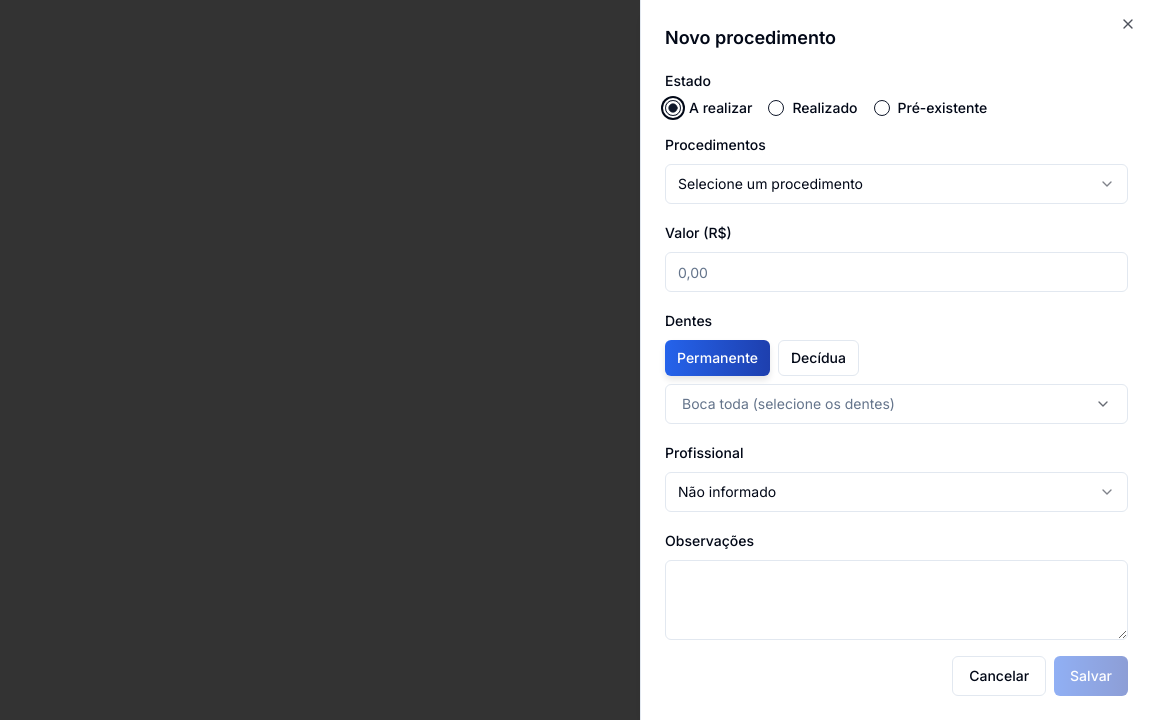
Test: ProcedureDrawer › decídua mostra os dentes 55 a 85
This screenshot has width=1152, height=720.
Click the button "Decídua" at (818,358), box [778,340,859,376]
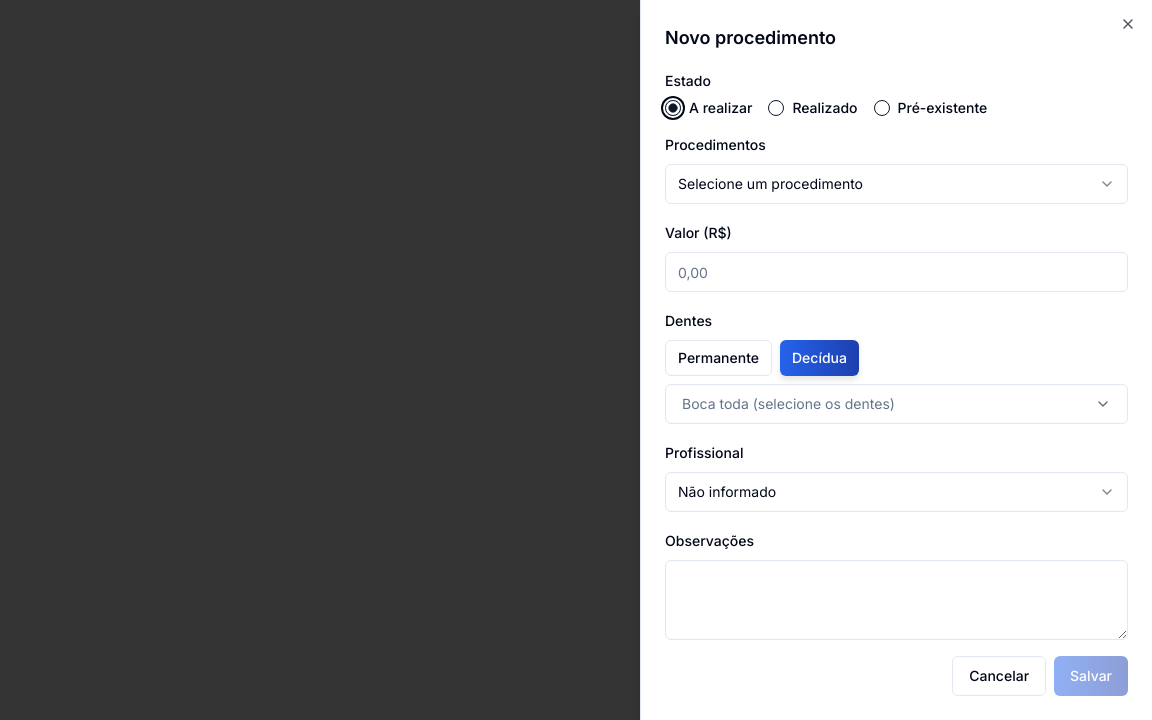
Click the button with aria-label "Selecionar dentes" at (896,404), box [665,384,1128,424]
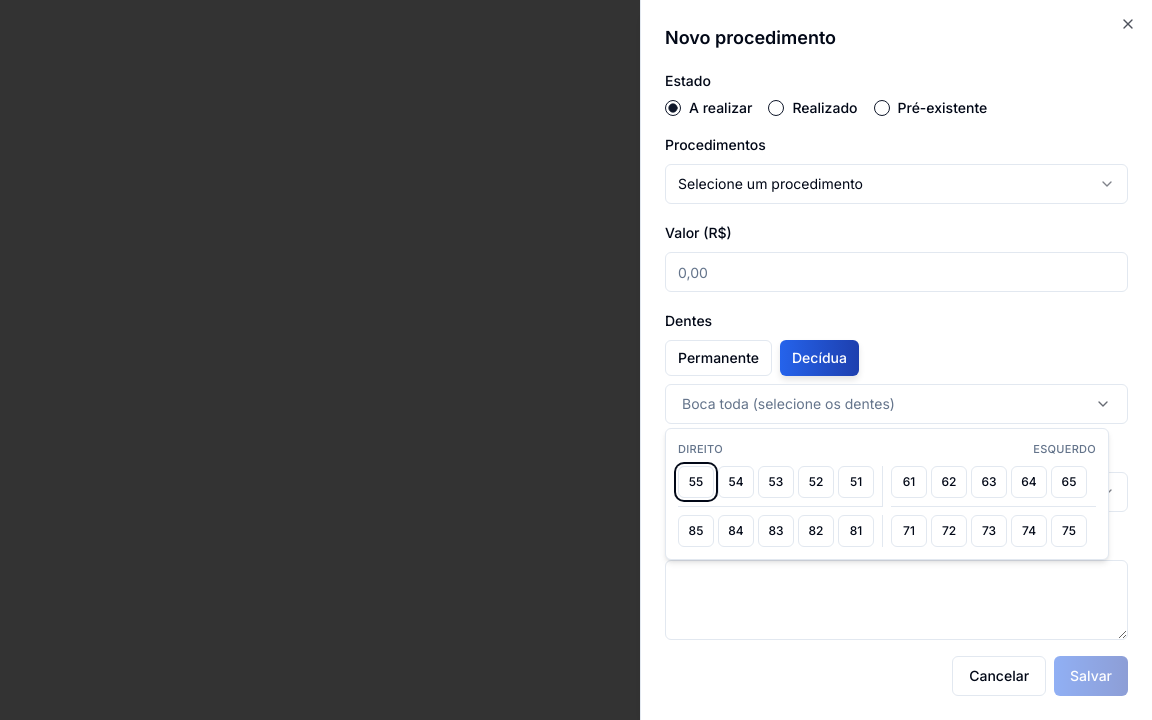
Now the button named "Dente 55" is shown, box [678,466,714,498]
Now the button named "Dente 85" is shown, box [678,514,714,546]
